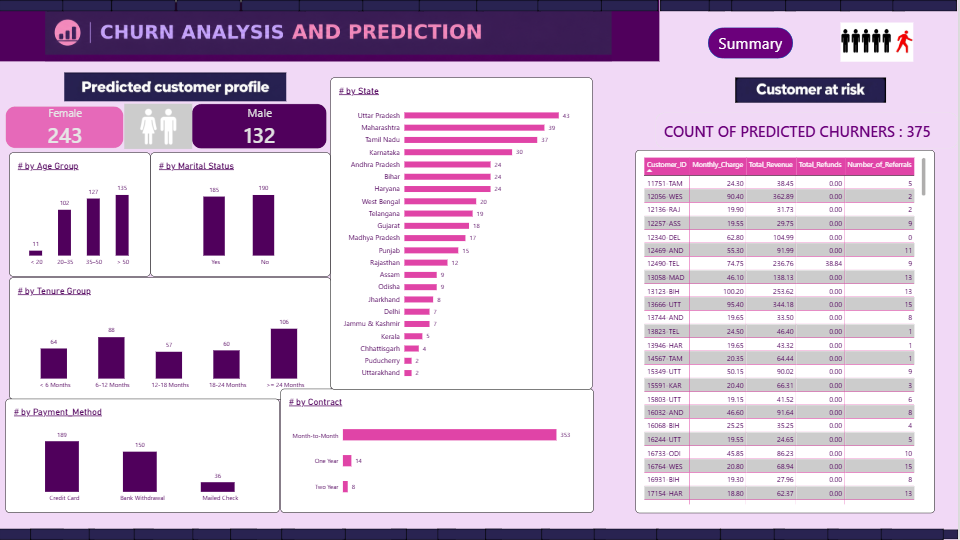

What the dashboard file says about the page in this screenshot:
{"tool":"powerbi","page":{"name":"Churn Prediction","canvas":[1920,1080],"ordinal":2},"visuals":[{"type":"tableEx","fields":{"Values":["Predictions.Customer_ID","Predictions.Monthly_Charge","Predictions.Total_Revenue","Predictions.Total_Refunds","Predictions.Number_of_Referrals"]},"box":[1274,300,598,726],"z":0},{"type":"cardVisual","fields":{"Data":["tbl_Measures.Title Predicted Churners"]},"box":[1314,224,606,72],"z":1000},{"type":"cardVisual","fields":{"Data":["tbl_Measures.Count Predicted Churner"]},"box":[16,212,236,84],"z":2000},{"type":"cardVisual","fields":{"Data":["tbl_Measures.Count Predicted Churner"]},"box":[388,208,270,90],"z":3000},{"type":"clusteredColumnChart","fields":{"Category":["mapping_AgeGrp.Age Group"],"Y":["CountNonNull(Predictions.Customer_ID)"]},"box":[22,306,282,248],"z":4000},{"type":"clusteredColumnChart","fields":{"Category":["Predictions.Married"],"Y":["CountNonNull(Predictions.Customer_ID)"]},"box":[304,306,360,248],"z":5000},{"type":"clusteredColumnChart","fields":{"Category":["mapping_TenureGrp. Tenure Group "],"Y":["CountNonNull(Predictions.Customer_ID)"]},"box":[22,554,644,244],"z":6000},{"type":"clusteredColumnChart","fields":{"Category":["Predictions.Payment_Method"],"Y":["CountNonNull(Predictions.Customer_ID)"]},"box":[16,798,548,228],"z":7000},{"type":"clusteredBarChart","fields":{"Category":["Predictions.Contract"],"Y":["CountNonNull(Predictions.Customer_ID)"]},"box":[564,778,626,248],"z":8000},{"type":"clusteredBarChart","fields":{"Category":["Predictions.State"],"Y":["CountNonNull(Predictions.Customer_ID)"]},"box":[666,154,524,624],"z":9000},{"type":"shape","box":[1420,54,170,62],"z":11000},{"type":"image","box":[1321.7,0,132.5,22.5],"z":12000},{"type":"image","box":[1420,0,132.5,22.5],"z":13000},{"type":"image","box":[0,1057.5,132.5,22.5],"z":14000},{"type":"image","box":[1465,0,132.5,22.5],"z":15000},{"type":"image","box":[1573.3,0,132.5,22.5],"z":16000},{"type":"image","box":[1681.7,0,132.5,22.5],"z":17000},{"type":"image","box":[1786.7,0,132.5,22.5],"z":18000},{"type":"image","box":[62,1058,132.5,22.5],"z":19000},{"type":"image","box":[180,1058,132.5,22.5],"z":20000},{"type":"image","box":[268.8,1057.5,132.5,22.5],"z":21000},{"type":"image","box":[388,1058,132.5,22.5],"z":22000},{"type":"image","box":[462.5,1057.5,132.5,22.5],"z":23000},{"type":"image","box":[786,1058,132.5,22.5],"z":24000},{"type":"image","box":[688,1058,132.5,22.5],"z":25000},{"type":"image","box":[564,1058,132.5,22.5],"z":26000},{"type":"image","box":[1810,1058,110,22],"z":27000},{"type":"image","box":[878,1058,132.5,22.5],"z":28000},{"type":"image","box":[972,1058,132.5,22.5],"z":29000},{"type":"image","box":[1086,1058,132.5,22.5],"z":30000},{"type":"image","box":[1190,1058,132.5,22.5],"z":31000},{"type":"image","box":[1314,1058,132.5,22.5],"z":32000},{"type":"image","box":[1442,1058,132.5,22.5],"z":33000},{"type":"image","box":[1550,1058,132.5,22.5],"z":34000},{"type":"image","box":[1658,1058,132.5,22.5],"z":35000},{"type":"image","box":[1762,1058,132,22],"z":36000},{"type":"image","box":[132,146,444,58],"z":37000},{"type":"image","box":[1442,154,366,50],"z":38000},{"type":"image","box":[252,208,136,90],"z":39000},{"type":"image","box":[1646,44,226,78],"z":40000},{"type":"image","box":[0,0,1322,122],"z":40001},{"type":"image","box":[1190,0,132.5,22.5],"z":40002},{"type":"image","box":[720,0,132.5,22.5],"z":40003},{"type":"image","box":[840,0,132.5,22.5],"z":40004},{"type":"image","box":[953.8,0,132.5,22.5],"z":40005},{"type":"image","box":[1076.2,0,132.5,22.5],"z":40006},{"type":"image","box":[483.8,0,132.5,22.5],"z":40007},{"type":"image","box":[600,0,132.5,22.5],"z":40008},{"type":"image","box":[98,0,132.5,22.5],"z":40009},{"type":"image","box":[354,0,132.5,22.5],"z":40010},{"type":"image","box":[224,0,132.5,22.5],"z":40011},{"type":"image","box":[0,0,132.5,22.5],"z":40012}]}

Visuals, with their boxes in screenshot pixels (x1, y1, x2, y2), scaled from the page's 1920x1080 canvas onto the 960x540 screenshot:
tableEx - Predictions.Customer_ID x Predictions.Monthly_Charge: select_region(637, 150, 936, 513)
cardVisual - tbl_Measures.Title Predicted Churners: select_region(657, 112, 959, 148)
cardVisual - tbl_Measures.Count Predicted Churner: select_region(8, 106, 126, 148)
cardVisual - tbl_Measures.Count Predicted Churner: select_region(194, 104, 329, 149)
clusteredColumnChart - mapping_AgeGrp.Age Group x CountNonNull(Predictions.Customer_ID): select_region(11, 153, 152, 277)
clusteredColumnChart - Predictions.Married x CountNonNull(Predictions.Customer_ID): select_region(152, 153, 332, 277)
clusteredColumnChart - mapping_TenureGrp. Tenure Group  x CountNonNull(Predictions.Customer_ID): select_region(11, 277, 333, 399)
clusteredColumnChart - Predictions.Payment_Method x CountNonNull(Predictions.Customer_ID): select_region(8, 399, 282, 513)
clusteredBarChart - Predictions.Contract x CountNonNull(Predictions.Customer_ID): select_region(282, 389, 595, 513)
clusteredBarChart - Predictions.State x CountNonNull(Predictions.Customer_ID): select_region(333, 77, 595, 389)
shape: select_region(710, 27, 795, 58)
image: select_region(661, 0, 727, 11)
image: select_region(710, 0, 776, 11)
image: select_region(0, 529, 66, 539)
image: select_region(732, 0, 799, 11)
image: select_region(787, 0, 853, 11)
image: select_region(841, 0, 907, 11)
image: select_region(893, 0, 959, 11)
image: select_region(31, 529, 97, 539)
image: select_region(90, 529, 156, 539)
image: select_region(134, 529, 201, 539)
image: select_region(194, 529, 260, 539)
image: select_region(231, 529, 298, 539)
image: select_region(393, 529, 459, 539)
image: select_region(344, 529, 410, 539)
image: select_region(282, 529, 348, 539)
image: select_region(905, 529, 959, 539)
image: select_region(439, 529, 505, 539)
image: select_region(486, 529, 552, 539)
image: select_region(543, 529, 609, 539)
image: select_region(595, 529, 661, 539)
image: select_region(657, 529, 723, 539)
image: select_region(721, 529, 787, 539)
image: select_region(775, 529, 841, 539)
image: select_region(829, 529, 895, 539)
image: select_region(881, 529, 947, 539)
image: select_region(66, 73, 288, 102)
image: select_region(721, 77, 904, 102)
image: select_region(126, 104, 194, 149)
image: select_region(823, 22, 936, 61)
image: select_region(0, 0, 661, 61)
image: select_region(595, 0, 661, 11)
image: select_region(360, 0, 426, 11)
image: select_region(420, 0, 486, 11)
image: select_region(477, 0, 543, 11)
image: select_region(538, 0, 604, 11)
image: select_region(242, 0, 308, 11)
image: select_region(300, 0, 366, 11)
image: select_region(49, 0, 115, 11)
image: select_region(177, 0, 243, 11)
image: select_region(112, 0, 178, 11)
image: select_region(0, 0, 66, 11)
